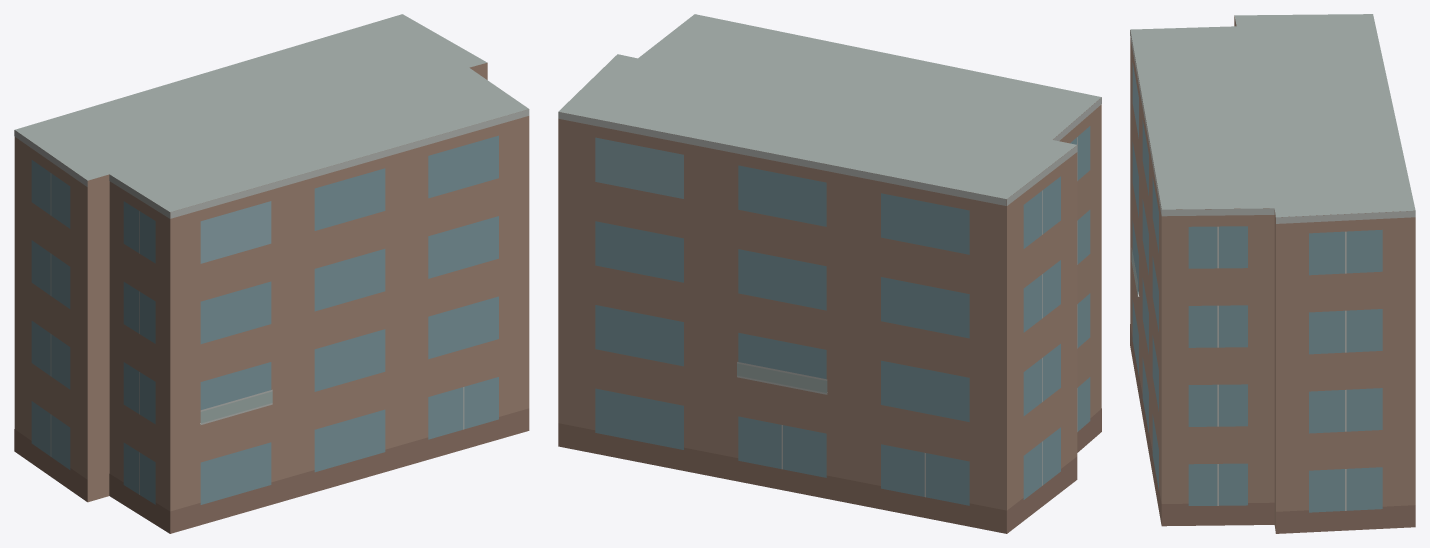
File: survey-upis-32671174.glb
The picture shows the model from 3 angles, left to right: view 1: azimuth 30°, elevation 25°; view 2: azimuth 150°, elevation 25°; view 3: azimuth 270°, elevation 25°; orthographic projection. The views are drawn at different scales.
Parts seen in each view (by area): view 1: survey-upis-32671174.tmp; view 2: survey-upis-32671174.tmp; view 3: survey-upis-32671174.tmp.
Part boxes in pixels (<box>): survey-upis-32671174.tmp: <box>14,14,529,533</box>; survey-upis-32671174.tmp: <box>558,14,1101,533</box>; survey-upis-32671174.tmp: <box>1130,14,1415,533</box>.
Size of the model in its own units: 16.13 by 11.7 by 9.57.
